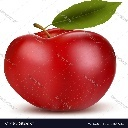apple: (4, 19, 118, 111)
